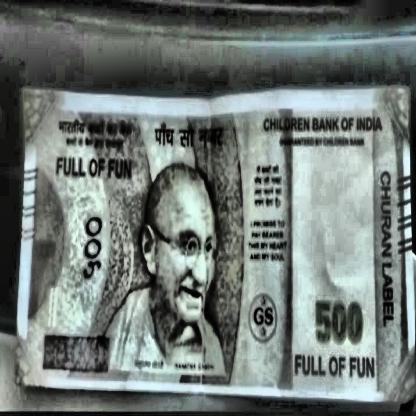Rs500: (311, 290, 370, 354)
